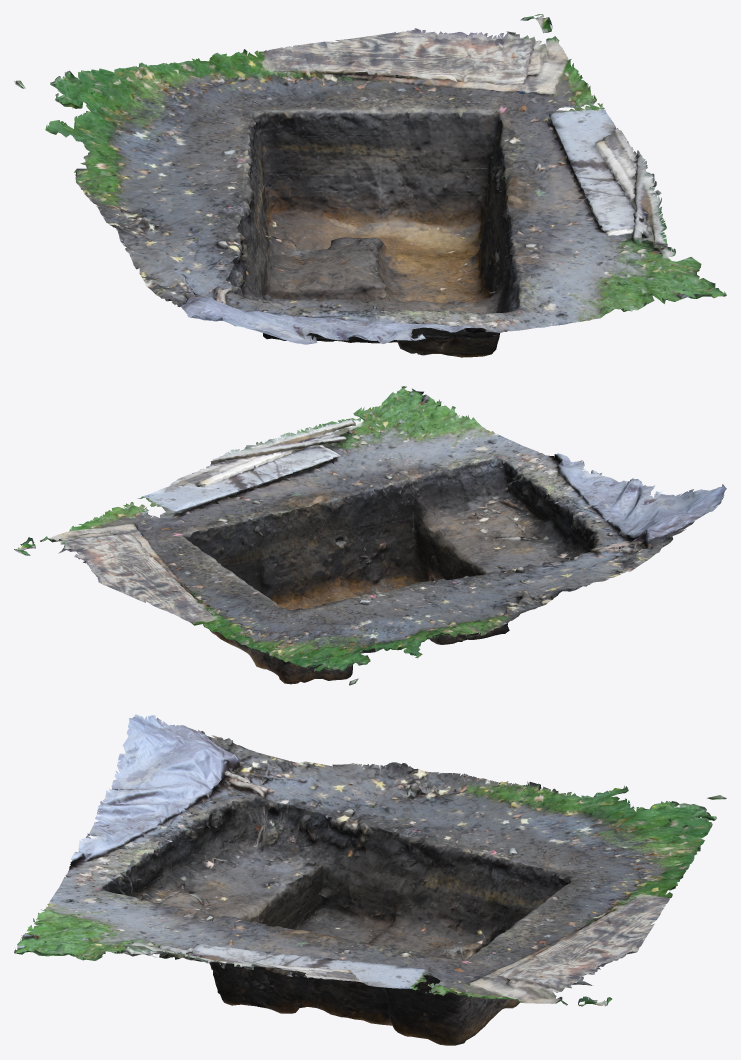
3 renders of one model, top to bottom at view 1: azimuth 30°, elevation 25°; view 2: azimuth 150°, elevation 25°; view 3: azimuth 270°, elevation 25°, orthographic. The views are drawn at different scales.
Parts seen in each view (by area): view 1: strata; view 2: strata; view 3: strata.
Part boxes in pixels (x1,y1,x2,y2): strata: (14,14,726,357); strata: (14,386,726,685); strata: (14,714,726,1045).
Bounding box in the file's own units: 1307 × 331 × 1474.
Materials: 1 (1 with a texture image).
